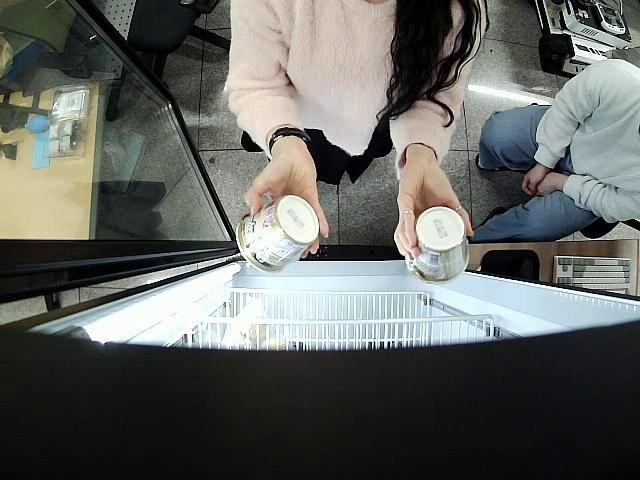04_chapagetti_S: (238, 194, 318, 277), (404, 209, 471, 285)
